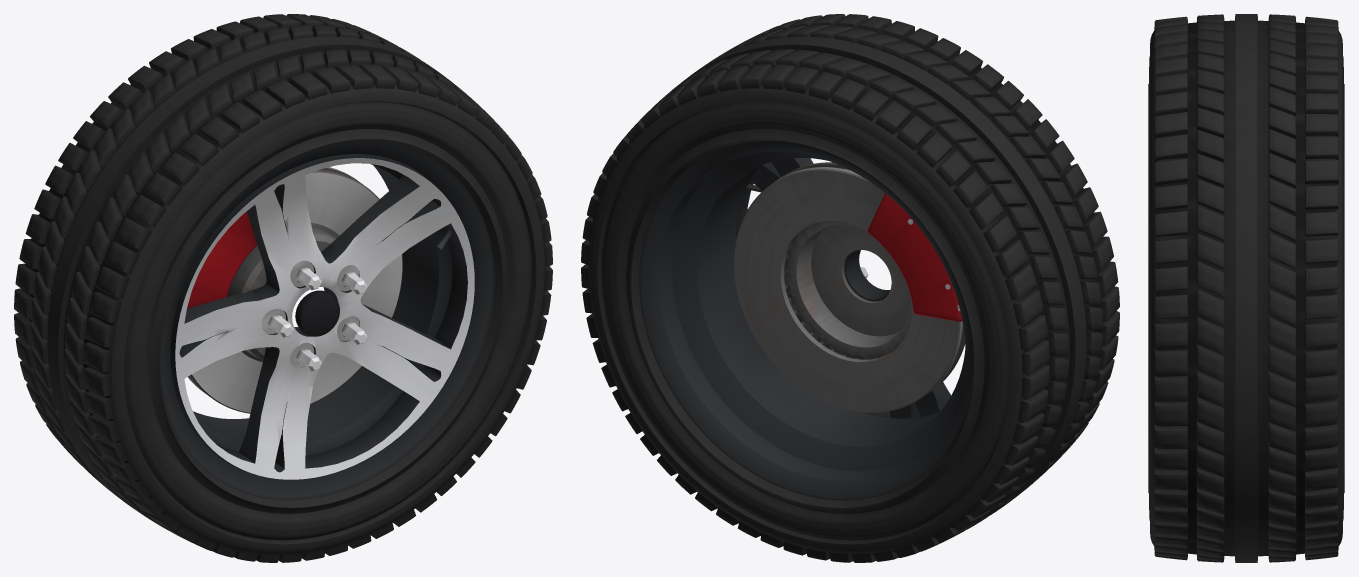
The model's file is wheel-hi-v1.glb.
3 renders of one model, left to right at view 1: azimuth 30°, elevation 25°; view 2: azimuth 150°, elevation 25°; view 3: azimuth 270°, elevation 25°, orthographic. The views are drawn at different scales.
Visible parts, largest first — view 1: tyre, rim, disc, caliper, lugs, cap; view 2: tyre, rim, disc, caliper; view 3: tyre.
Part boxes in pixels (<box>): tyre: <box>14,14,552,562</box>; rim: <box>160,140,494,500</box>; disc: <box>188,167,402,413</box>; caliper: <box>187,211,257,308</box>; lugs: <box>268,267,367,371</box>; cap: <box>295,290,339,336</box>; tyre: <box>581,14,1119,562</box>; rim: <box>639,140,973,500</box>; disc: <box>733,162,965,412</box>; caliper: <box>867,193,962,321</box>; tyre: <box>1148,14,1344,562</box>.
Size of the model in its own units: 0.6344 by 0.6344 by 0.2268.
Materials: 10 (4 with a texture image).
